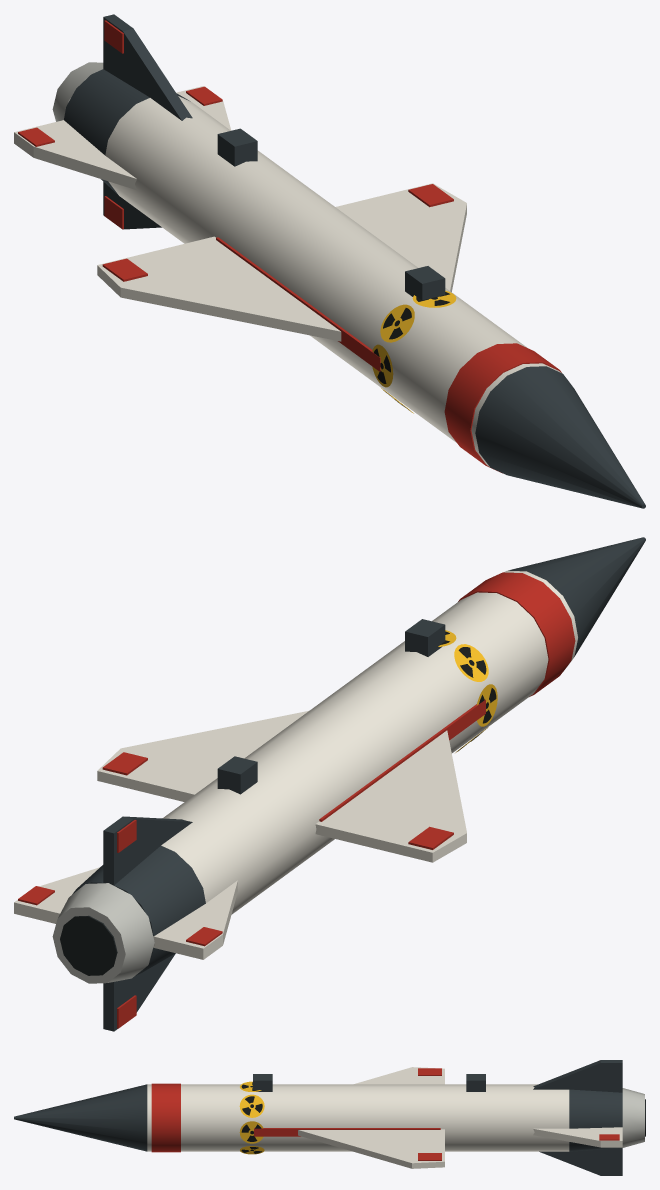
3 renders of one model, top to bottom at view 1: azimuth 30°, elevation 25°; view 2: azimuth 150°, elevation 25°; view 3: azimuth 270°, elevation 25°, orthographic. The views are drawn at different scales.
Parts seen in each view (by area): view 1: nuclear-missile-fleet-armor, nuclear-missile-fleet-machine, nuclear-missile-fleet-red, strategic-tail-fin-pair-1-fleet-machine, strategic-tail-fin-pair-0-fleet-armor, nuclear-missile-hazard-yellow, nuclear-missile-fleet-edge, strategic-tail-fin-pair-1-fleet-red, strategic-tail-fin-pair-0-fleet-red, nuclear-missile-hazard-black; view 2: nuclear-missile-fleet-armor, nuclear-missile-fleet-machine, nuclear-missile-fleet-red, nuclear-missile-fleet-edge, strategic-tail-fin-pair-1-fleet-machine, strategic-tail-fin-pair-0-fleet-armor, nuclear-missile-fleet-rubber, nuclear-missile-hazard-yellow, strategic-tail-fin-pair-1-fleet-red, strategic-tail-fin-pair-0-fleet-red; view 3: nuclear-missile-fleet-armor, nuclear-missile-fleet-machine, strategic-tail-fin-pair-1-fleet-machine, nuclear-missile-fleet-red, strategic-tail-fin-pair-0-fleet-armor, nuclear-missile-fleet-edge, nuclear-missile-hazard-yellow, nuclear-missile-hazard-black.
Part boxes in pixels (<box>): nuclear-missile-fleet-armor: <box>97,96,562,466</box>; nuclear-missile-fleet-machine: <box>64,69,645,508</box>; nuclear-missile-fleet-red: <box>102,184,561,473</box>; strategic-tail-fin-pair-1-fleet-machine: <box>103,14,192,229</box>; strategic-tail-fin-pair-0-fleet-armor: <box>14,86,231,190</box>; nuclear-missile-hazard-yellow: <box>372,290,456,413</box>; nuclear-missile-fleet-edge: <box>52,62,103,121</box>; strategic-tail-fin-pair-1-fleet-red: <box>104,20,123,229</box>; strategic-tail-fin-pair-0-fleet-red: <box>18,86,222,146</box>; nuclear-missile-hazard-black: <box>373,292,449,410</box>; nuclear-missile-fleet-armor: <box>97,570,577,914</box>; nuclear-missile-fleet-machine: <box>72,537,645,979</box>; nuclear-missile-fleet-red: <box>102,572,575,849</box>; nuclear-missile-fleet-edge: <box>52,883,154,983</box>; strategic-tail-fin-pair-1-fleet-machine: <box>103,816,192,1031</box>; strategic-tail-fin-pair-0-fleet-armor: <box>14,867,237,959</box>; nuclear-missile-fleet-rubber: <box>60,915,117,975</box>; nuclear-missile-hazard-yellow: <box>438,630,497,752</box>; strategic-tail-fin-pair-1-fleet-red: <box>117,820,136,1028</box>; strategic-tail-fin-pair-0-fleet-red: <box>18,886,222,946</box>; nuclear-missile-fleet-armor: <box>147,1067,569,1168</box>; nuclear-missile-fleet-machine: <box>14,1074,622,1151</box>; strategic-tail-fin-pair-1-fleet-machine: <box>533,1060,622,1175</box>; nuclear-missile-fleet-red: <box>151,1068,441,1160</box>; strategic-tail-fin-pair-0-fleet-armor: <box>533,1127,622,1147</box>; nuclear-missile-fleet-edge: <box>622,1088,644,1147</box>; nuclear-missile-hazard-yellow: <box>239,1081,264,1154</box>; nuclear-missile-hazard-black: <box>241,1082,262,1153</box>.
Size of the model in its own units: 26.53 by 14.51 by 73.68.
